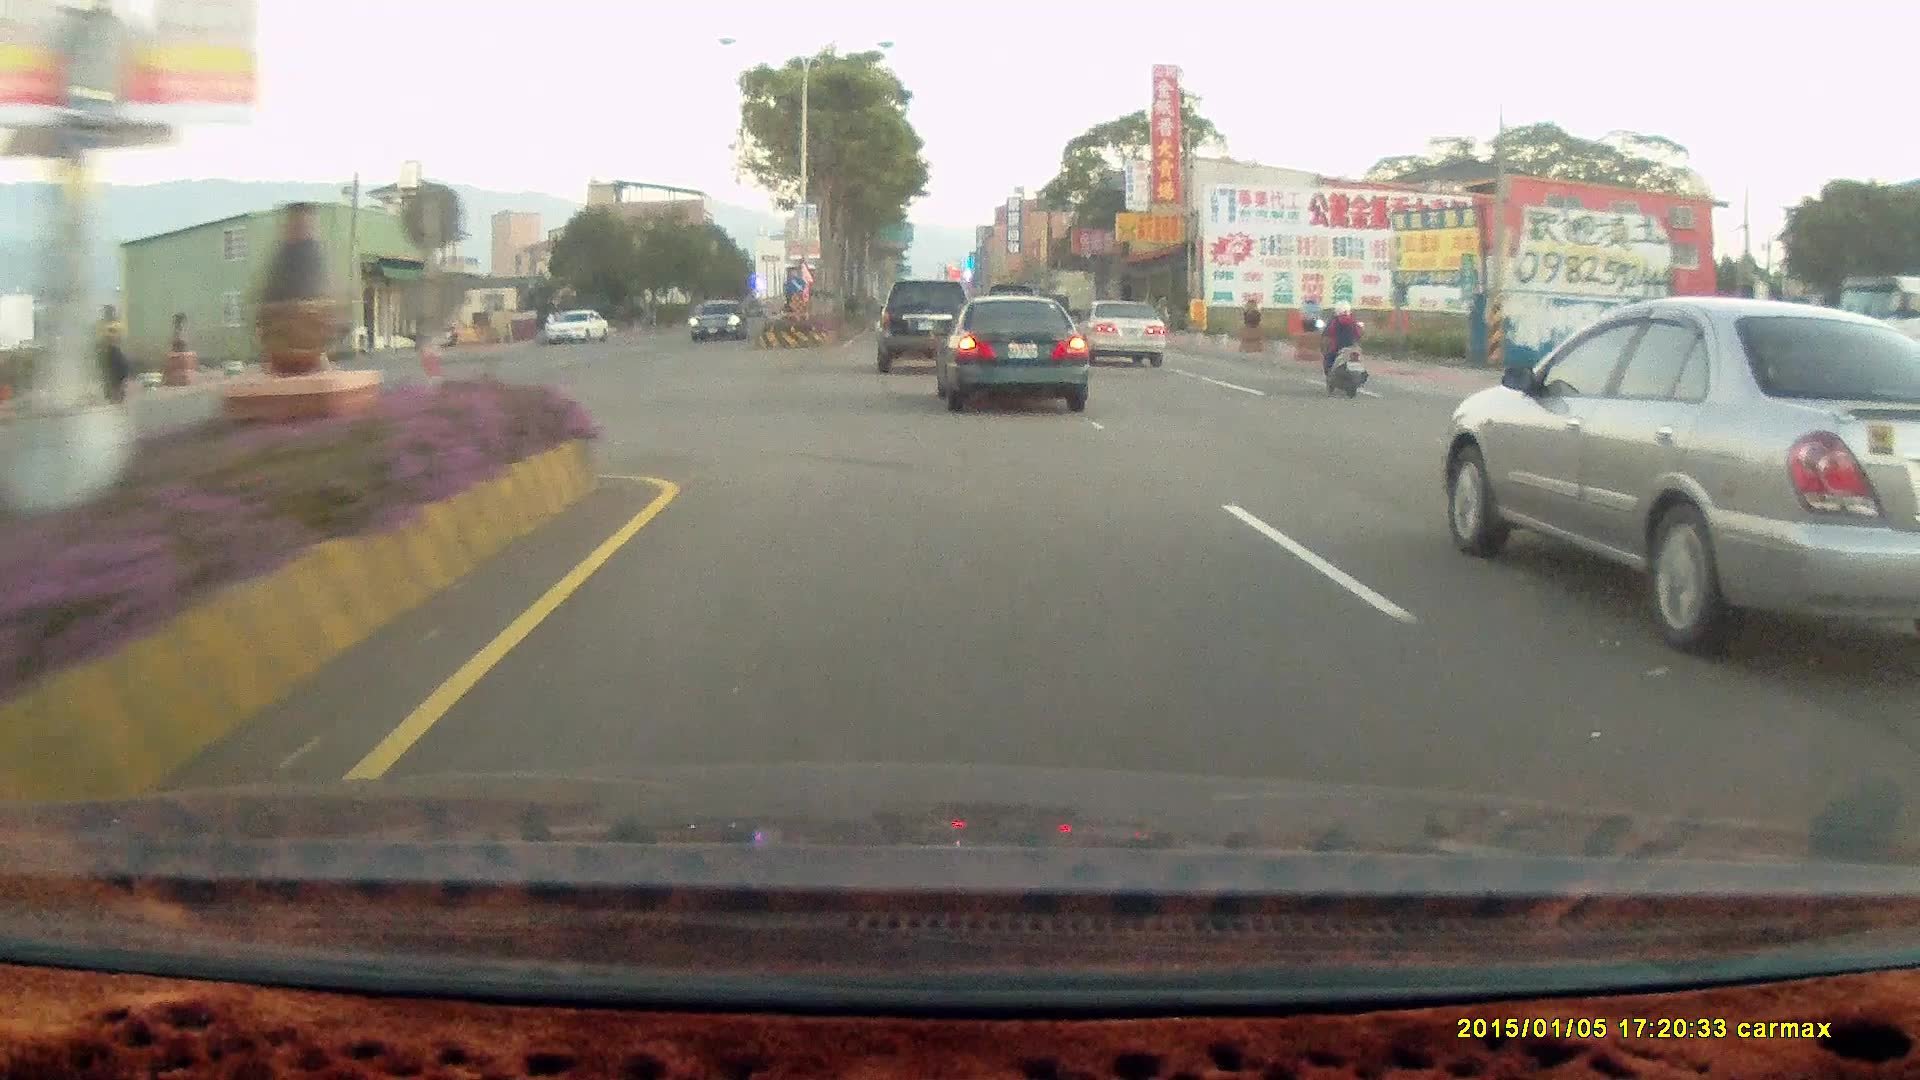pedestrian: (86, 329, 131, 411)
rider: (1307, 291, 1380, 408), (1312, 295, 1368, 394)
vehicle: (1436, 299, 1920, 664), (927, 291, 1085, 408), (943, 297, 1097, 414), (880, 274, 978, 374), (875, 277, 970, 372), (1075, 294, 1166, 364), (1077, 300, 1166, 366), (689, 300, 751, 345), (545, 306, 613, 345), (688, 299, 749, 343), (543, 305, 610, 341)
